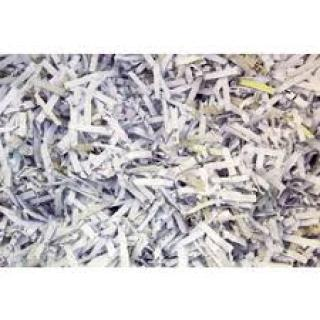PAPER: (0, 54, 319, 266)
